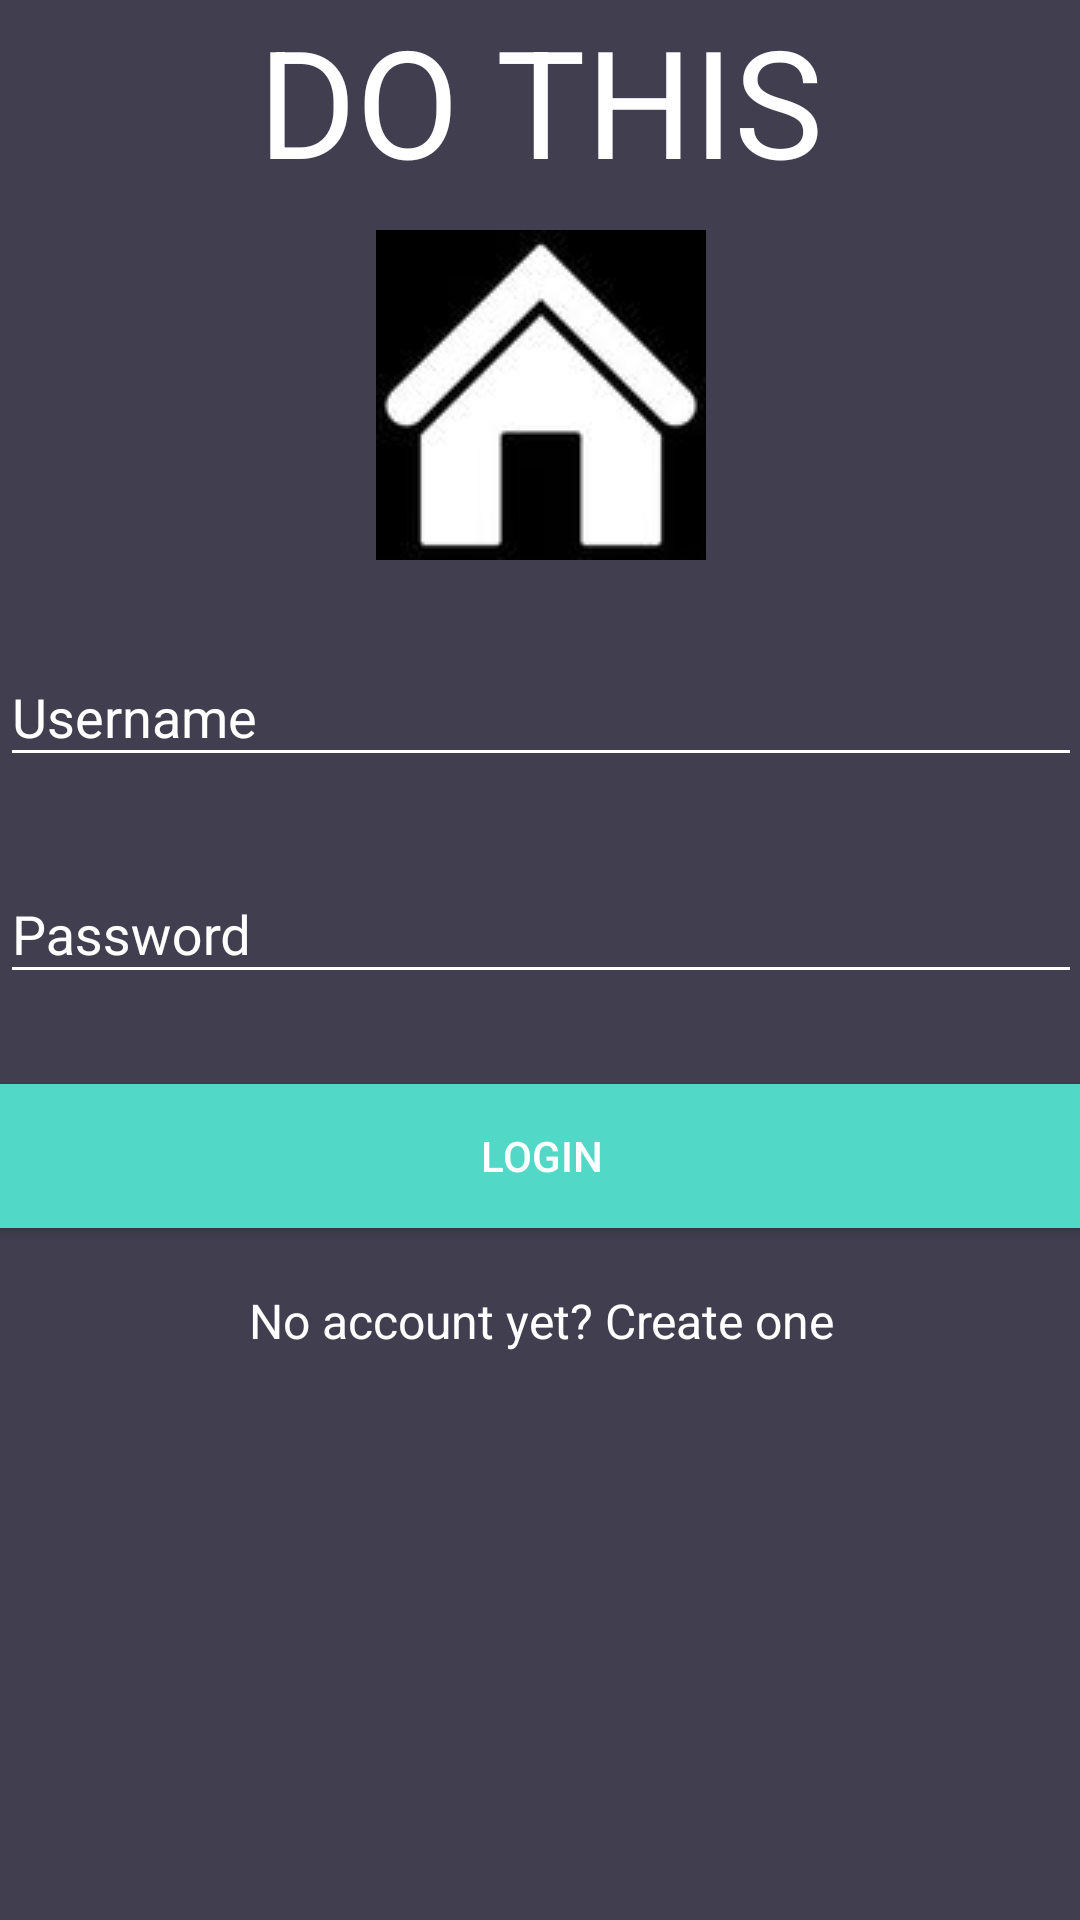

Screen size 1080*1920. Icon name, then its center in pixels as (x,y):
homepic: (541,395)
